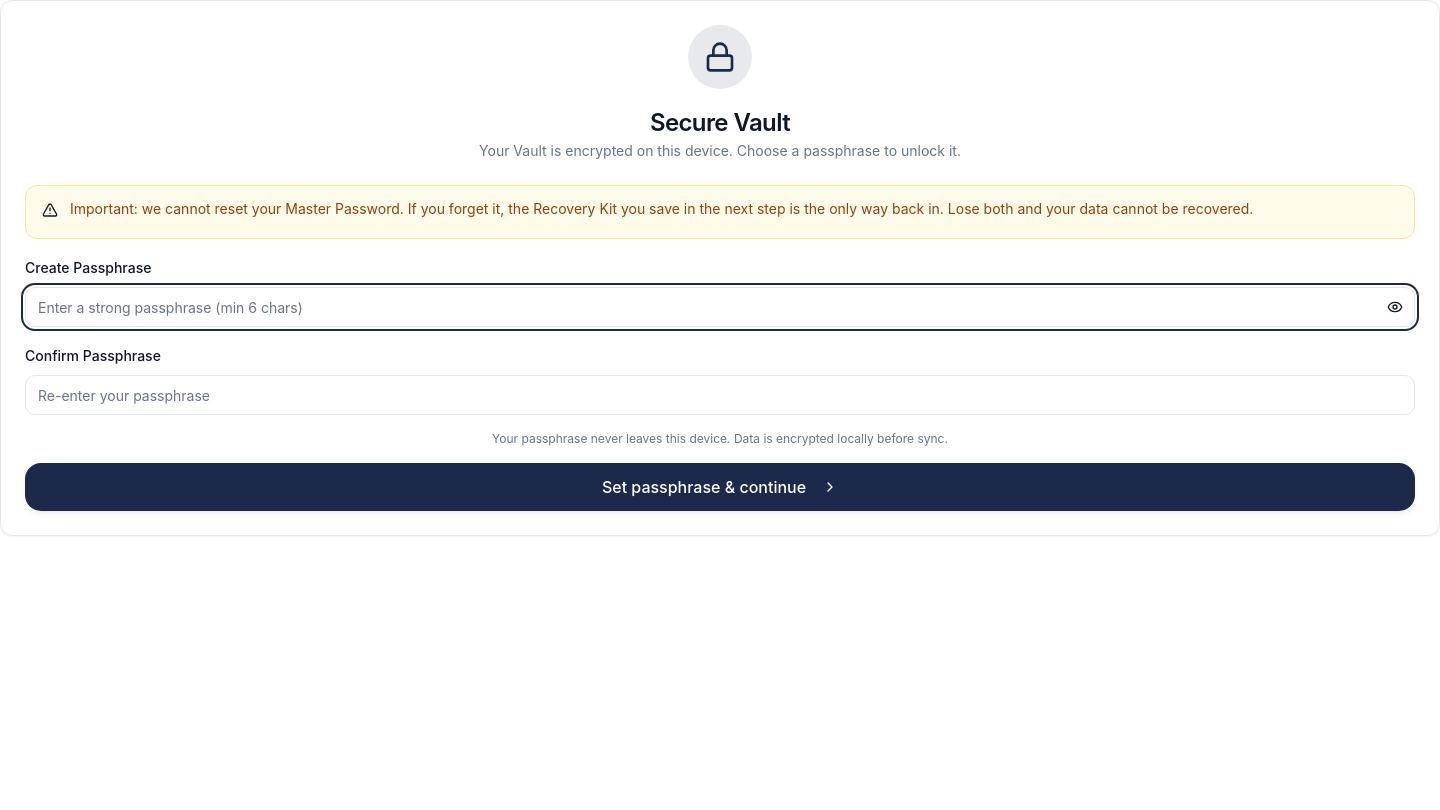
onboarding step 1 › drops the words when another account signs in
The image size is (1440, 810).
Expected: the password field with id "confirmPassword" is shown, [25,375,1415,415]
Type "an-onboarding-master-password" into the password field labelled "Create Passphrase" at (720, 307), box [25,287,1415,327]
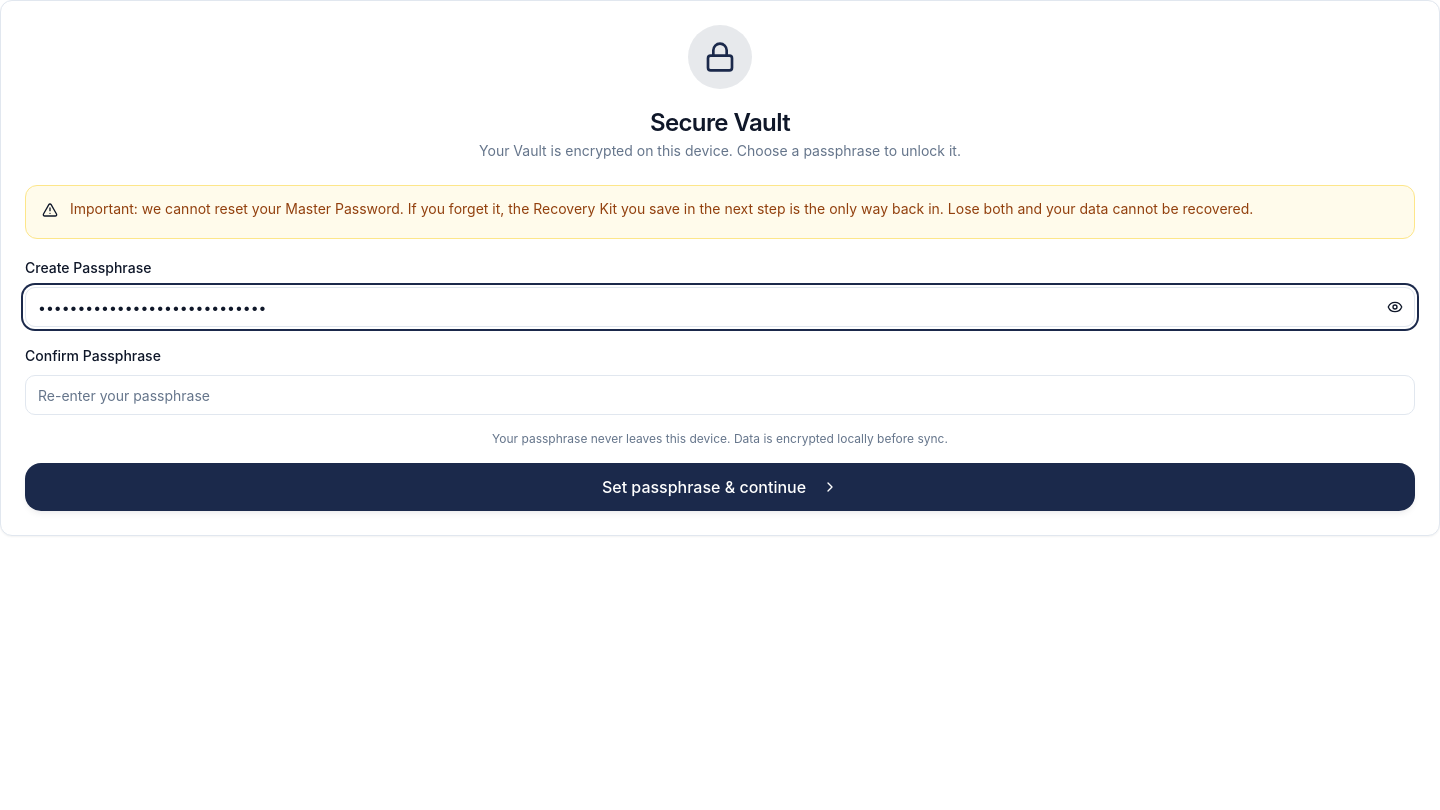
Type "an-onboarding-master-password" into the password field with id "confirmPassword" at (720, 395), box [25,375,1415,415]
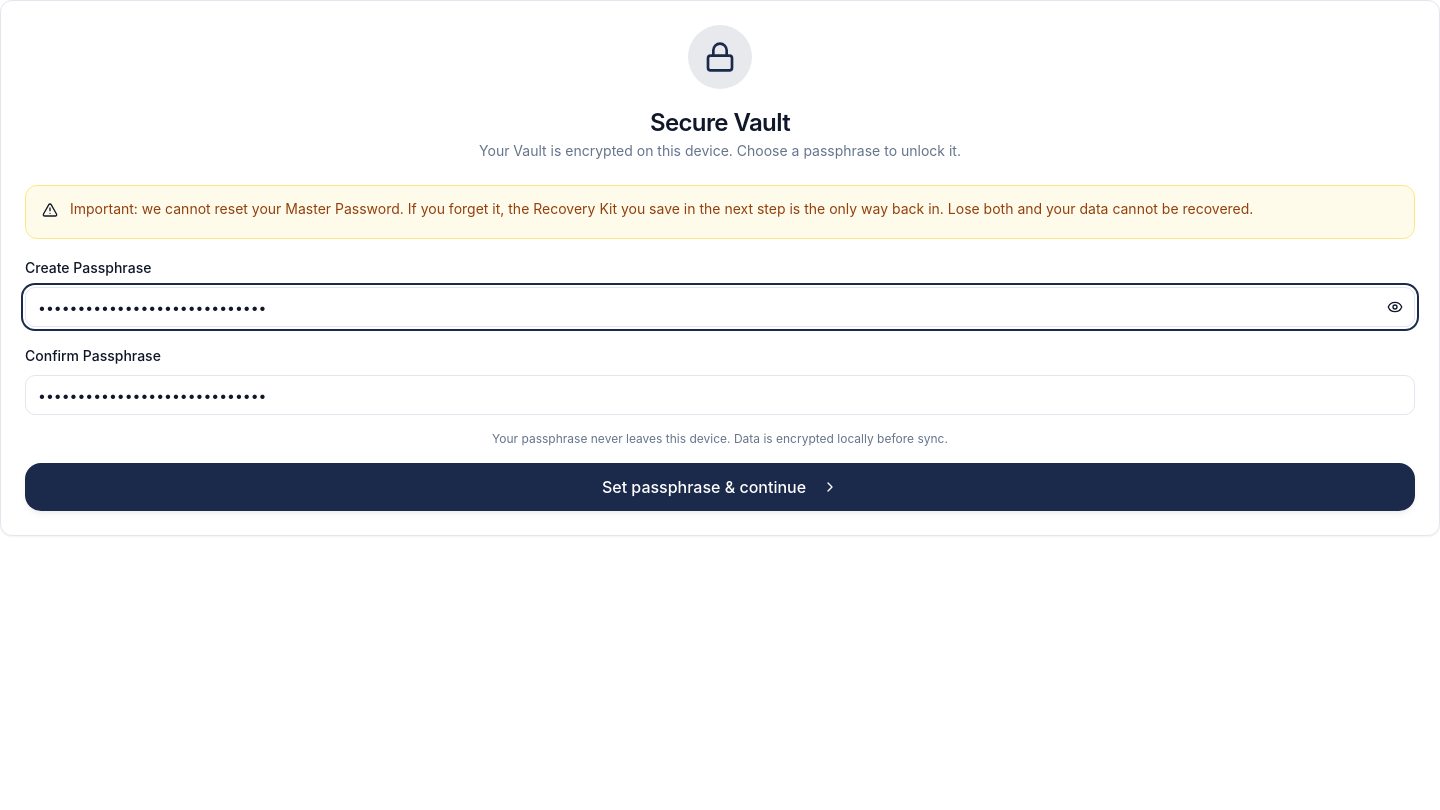
Submit the form, box [25,185,1415,511]
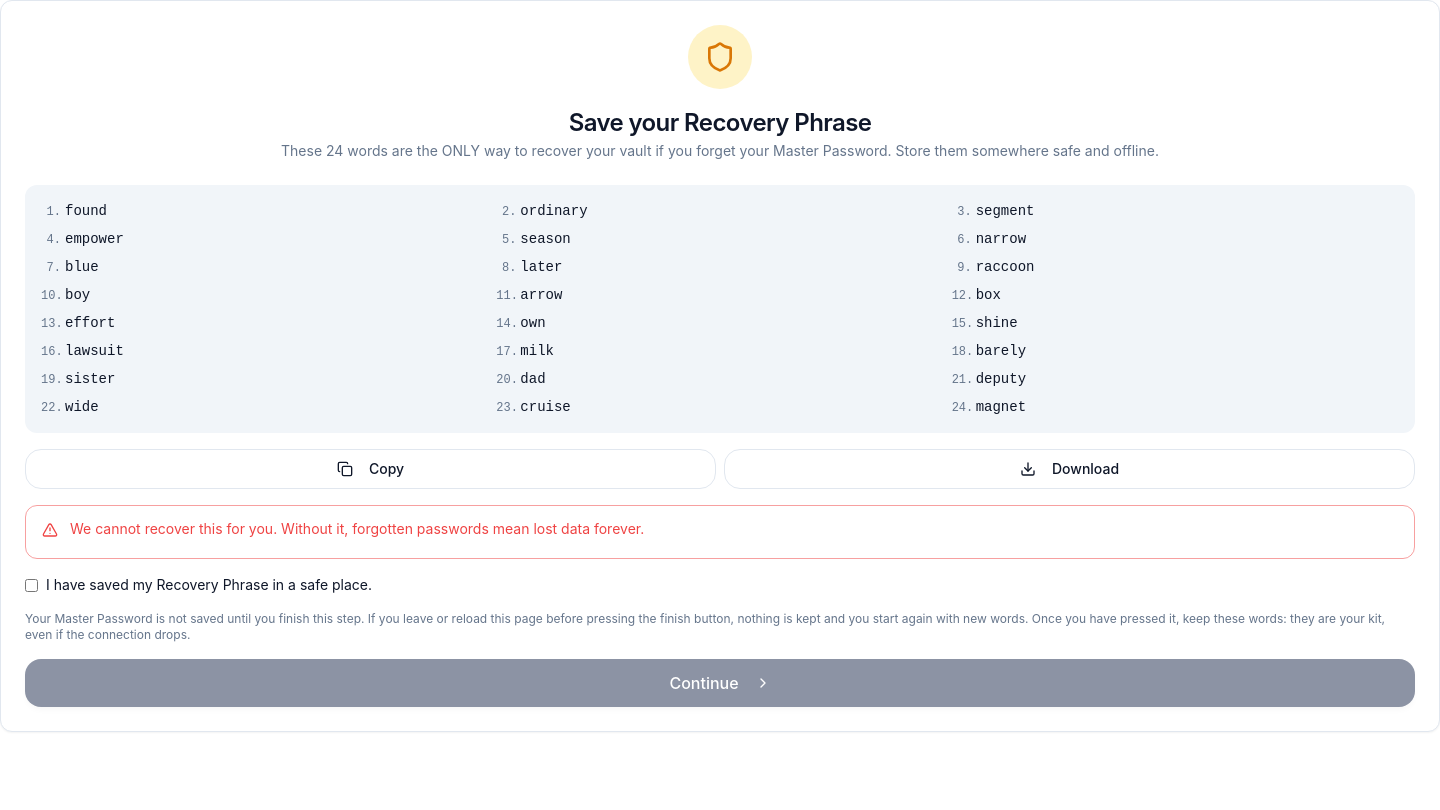
Now the text "Save your Recovery Phrase" is shown, box [569,108,871,137]
